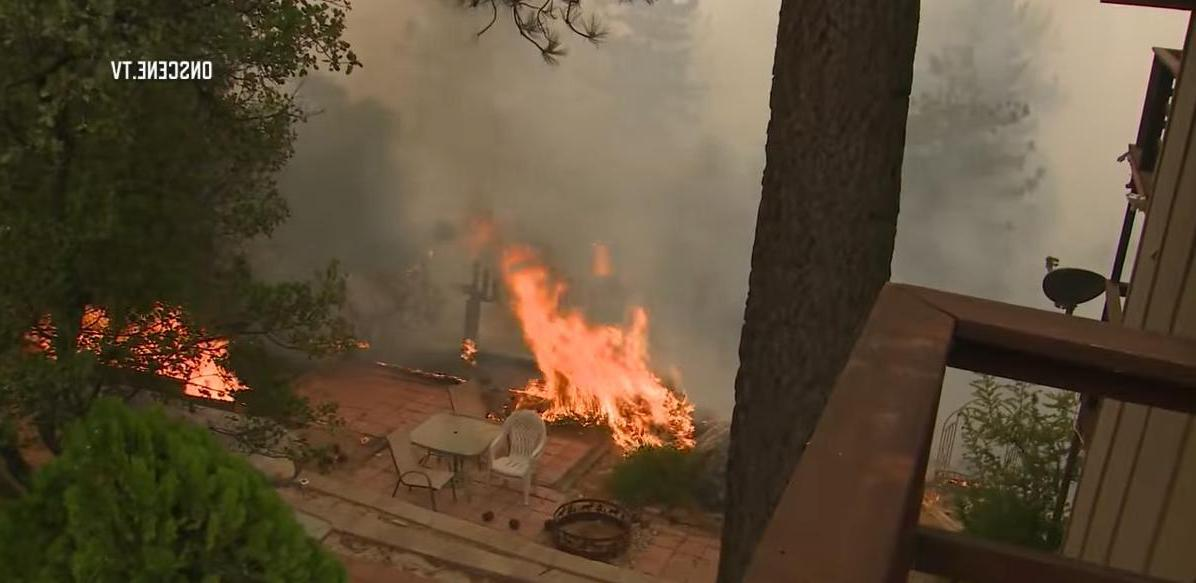Fire: (496, 220, 707, 460), (20, 289, 251, 406)
